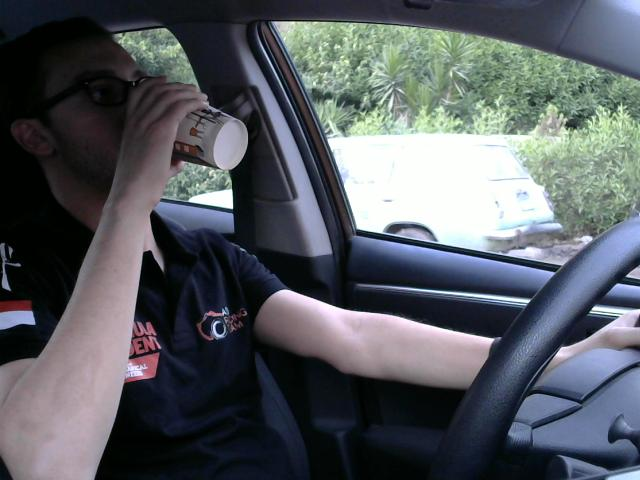Drinking: (126, 88, 255, 174)
